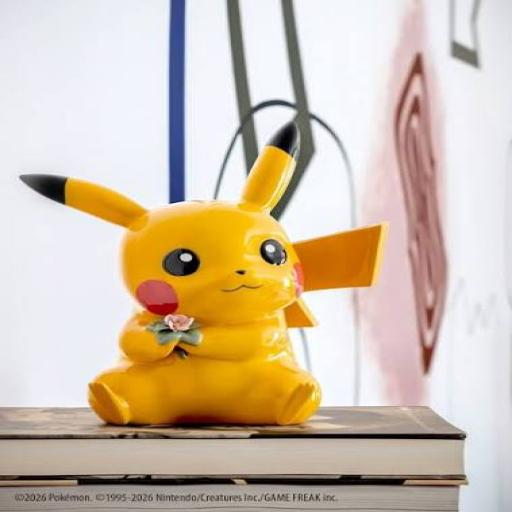Pikachu: (20, 121, 388, 427)
